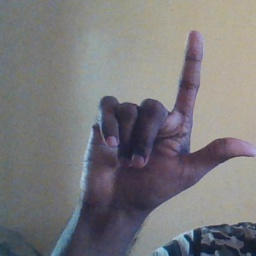L: (82, 31, 256, 225)
